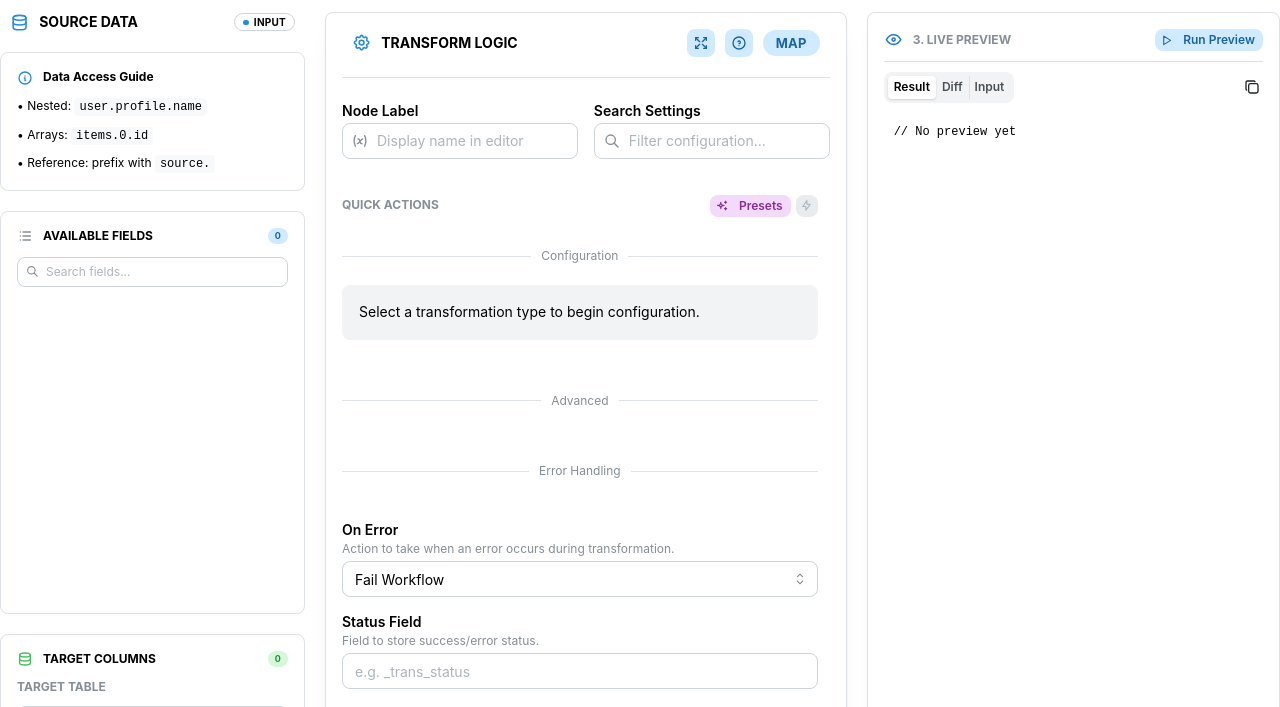
Test: Transformation preview › shows error on preview failure
Click the button "Run Preview".
click(1209, 40)  # box [1155,29,1263,51]
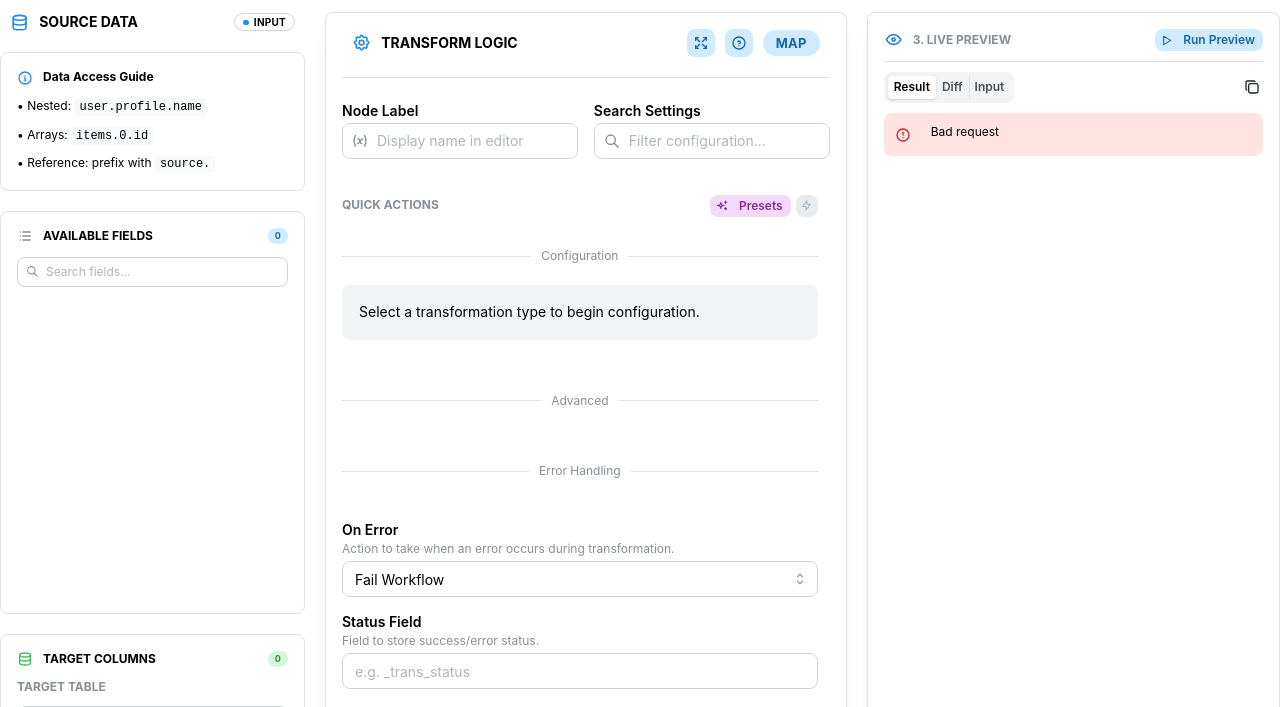
Result: the text "Bad request" is shown at [931,124,999,139]
